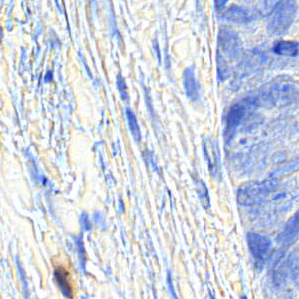Lymphocyte: (49, 248, 79, 299)
